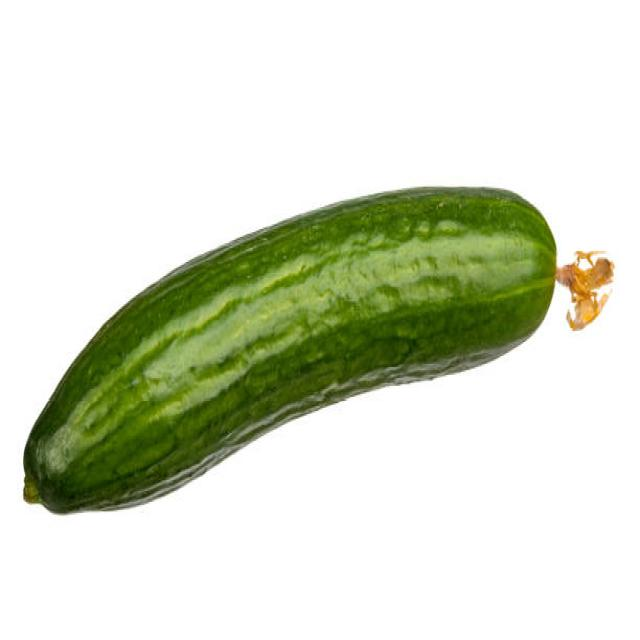cucumber: (24, 186, 556, 515)
